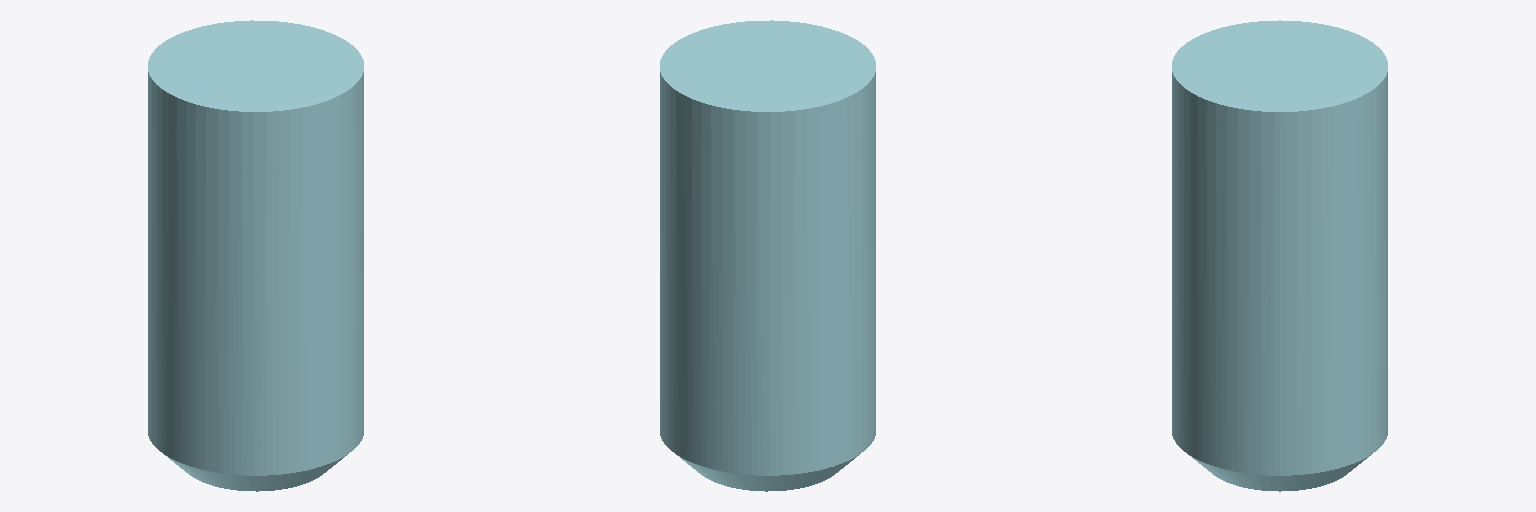
The robot description file, URDF, robot "objects":
<?xml  version="1.0"?>
<robot name ="objects"> 
    <!-- Author: [author]; e-mail:[email redacted]. The urdf file was develped in tongji university.-->

    <!--create  color params-->
    <material name ="LightGrey">
        <color rgba="0.7 0.7 0.7 1.0"/>
    </material>

    <material name ="White">
        <color rgba="1 1 1 1.0"/>
    </material>

    <material name ="Green">
        <color rgba="0.1 0. 1.0 1.0"/>
    </material>

    <material name ="Yellow">
        <color rgba="1. 1. 0. 1.0"/>
    </material>

    <material name ="Orange">
        <color rgba="1. 0.38 0. 1.0"/>
    </material>

    <material name ="Blue">
        <color rgba="0.69 0.87 0.9 1.0"/>
    </material>

    <mass name ="table_mass">
        <mass value="1.0"/>
    </mass>

    <mass name ="cylander_mass">
        <mass value="2.0"/>
    </mass>



    <link  name ="World"/>

    <joint name="cylinder1_to_world" type="floating">
        <parent link="World"/>
        <child link="cylinder1"/>
        <origin xyz="0. 0. 0." rpy="0.0 0.0 0.0"/>
    </joint>

    <link name = "cylinder1">
        <contact>
            <lateral_friction value="0.05"/>
            <rolling_friction value="0.0"/>
            <contact_erp value="1.0"/>
        </contact>
        <visual>
            <origin  xyz="0.0 0.0 0.0" rpy="0.0 0.0 0.0"/>
            <geometry>
                <mesh filename = "meshes/cylinder_champered.dae"/>
            </geometry>
            <material name ="Blue"/>
        </visual>
        <collision>
            <origin xyz="0.0 0.0 0.0" rpy="0.0 0.0 0.0"/>
            <geometry>
                <mesh filename ="meshes/cylinder_champered.dae"/>
            </geometry>
        </collision>
        <inertial>
            <mass value = "0.5"/>
            <origin xyz="0.0 0.0 0.0" rpy="0.0 0.0 0.0"/>
            <inertia ixx="0.0019" ixy="0.0" ixz="0.0" iyy="0.0019" iyz="0.0" izz="0.000625"/>
        </inertial>
    </link>
</robot>

--- Facts derived from the render (not from the file) ---
The picture shows the robot from 3 angles, left to right: view 1: azimuth 30°, elevation 25°; view 2: azimuth 150°, elevation 25°; view 3: azimuth 270°, elevation 25°; orthographic projection.
Robot: objects — 2 links, 1 joints (1 floating); root link World; default pose: every joint at zero.
Links seen in each view (by area): view 1: cylinder1; view 2: cylinder1; view 3: cylinder1.
Boxes of the visible links, x1=… form: cylinder1: x1=148, y1=20, x2=363, y2=491; cylinder1: x1=660, y1=20, x2=875, y2=491; cylinder1: x1=1172, y1=20, x2=1387, y2=491.
Bounding box of the posed robot: 0.1 × 0.1 × 0.2 m (x, y, z).
Meshes: 1 distinct files referenced, 1 mesh visuals loaded (1 Collada DAE).